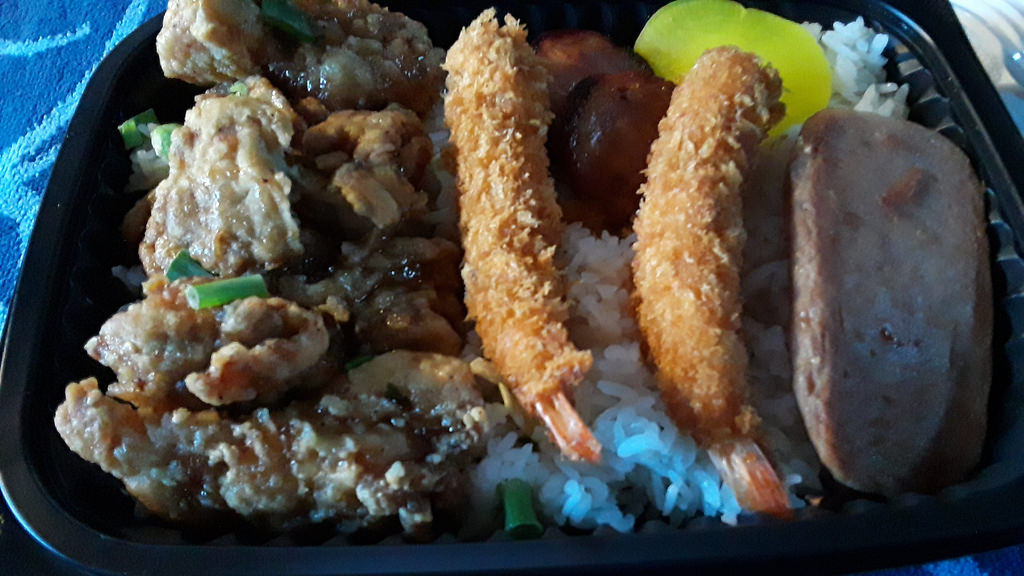plain rice: (611, 349, 673, 490)
